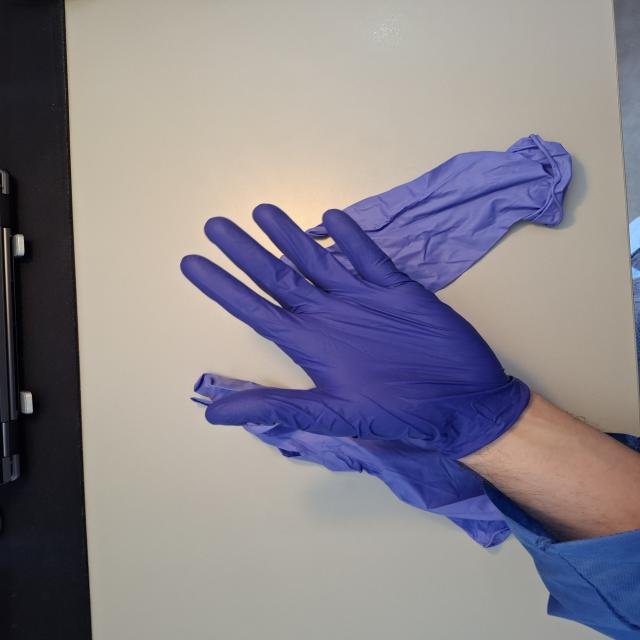glove_on: (178, 202, 512, 454)
